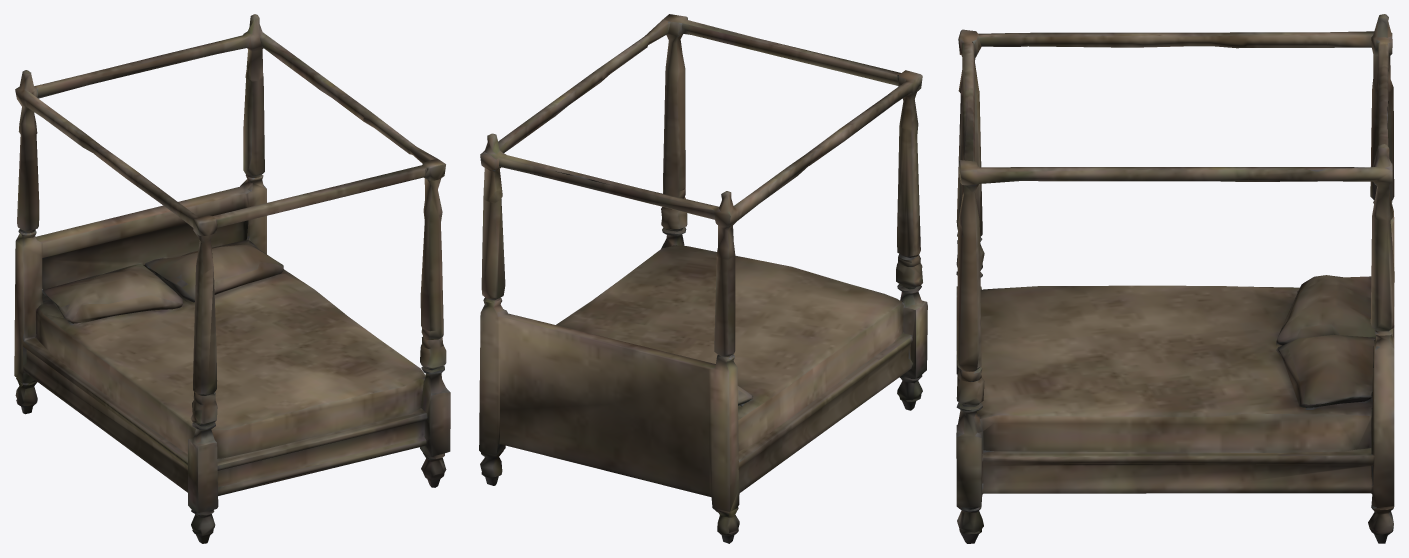
File: sturdy-wood-four-poster-bed-v001.glb
3 renders of one model, left to right at view 1: azimuth 30°, elevation 25°; view 2: azimuth 150°, elevation 25°; view 3: azimuth 270°, elevation 25°, orthographic. The views are drawn at different scales.
Parts seen in each view (by area): view 1: sturdy-wood-four-poster-bed; view 2: sturdy-wood-four-poster-bed; view 3: sturdy-wood-four-poster-bed.
Boxes of the visible parts, x1,y1,x2,y2 form: sturdy-wood-four-poster-bed: (14,14,450,543); sturdy-wood-four-poster-bed: (479,14,927,543); sturdy-wood-four-poster-bed: (956,14,1394,543).
Size of the model in its own units: 1.56 by 2.02 by 2.01.
1 material, 1 textured.
